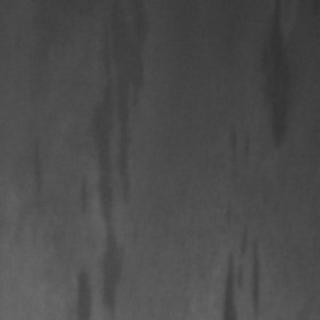inclusion: (70, 0, 142, 316), (253, 0, 299, 152), (216, 210, 270, 314), (15, 17, 67, 108), (68, 264, 95, 316)
